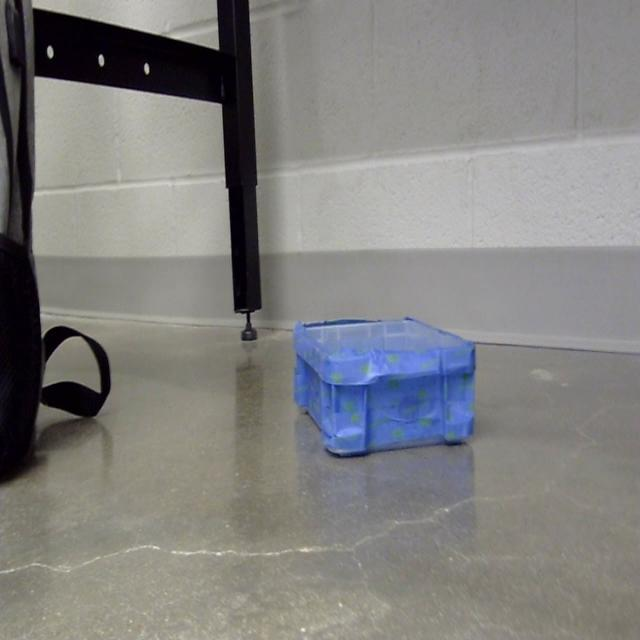bucket: (293, 319, 478, 460)
